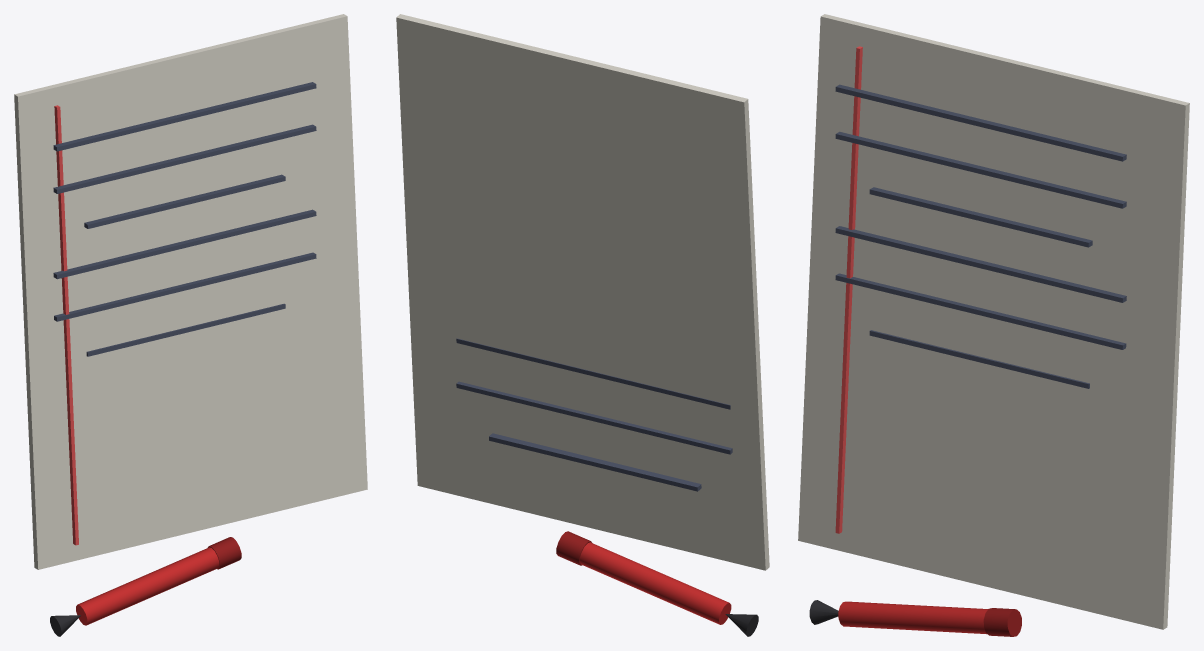
Rendered from exam-paper.glb.
The picture shows the model from 3 angles, left to right: view 1: azimuth 30°, elevation 25°; view 2: azimuth 150°, elevation 25°; view 3: azimuth 330°, elevation 25°; orthographic projection. The views are drawn at different scales.
Visible parts, largest first — view 1: ExamPaper, Pen; view 2: ExamPaper, Pen; view 3: ExamPaper, Pen.
Part boxes in pixels (x1,y1,x2,y2): ExamPaper: (14, 14, 367, 569); Pen: (50, 537, 241, 636); ExamPaper: (396, 14, 769, 570); Pen: (556, 531, 758, 636); ExamPaper: (798, 14, 1189, 629); Pen: (809, 600, 1021, 636).
Size of what is drawn, in the model's own units: 1.5 by 2.3 by 0.2449.
